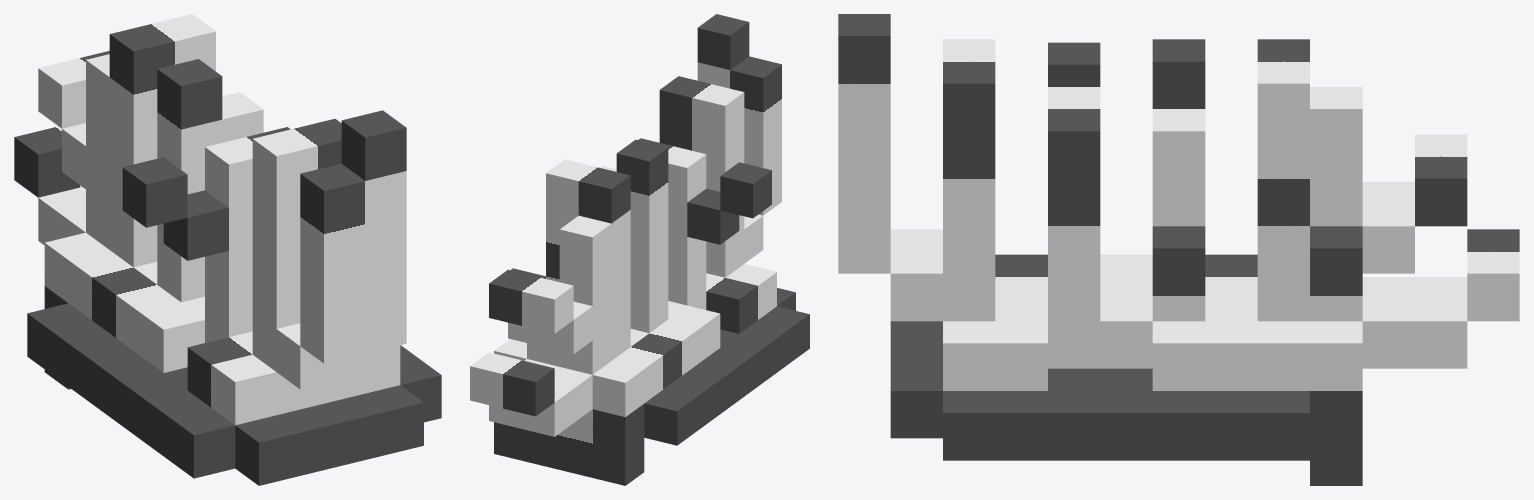
The model's file is wlos2.dae.
The picture shows the model from 3 angles, left to right: view 1: azimuth 30°, elevation 25°; view 2: azimuth 150°, elevation 25°; view 3: azimuth 270°, elevation 25°; orthographic projection. The views are drawn at different scales.
Parts seen in each view (by area): view 1: Content; view 2: Content; view 3: Content.
Part boxes in pixels (x1=…): Content: x1=14, y1=14, x2=441, y2=485; Content: x1=470, y1=14, x2=809, y2=485; Content: x1=838, y1=14, x2=1519, y2=485.
Size of the model in its own units: 6 by 9 by 13.
Materials: 1 (1 with a texture image).
